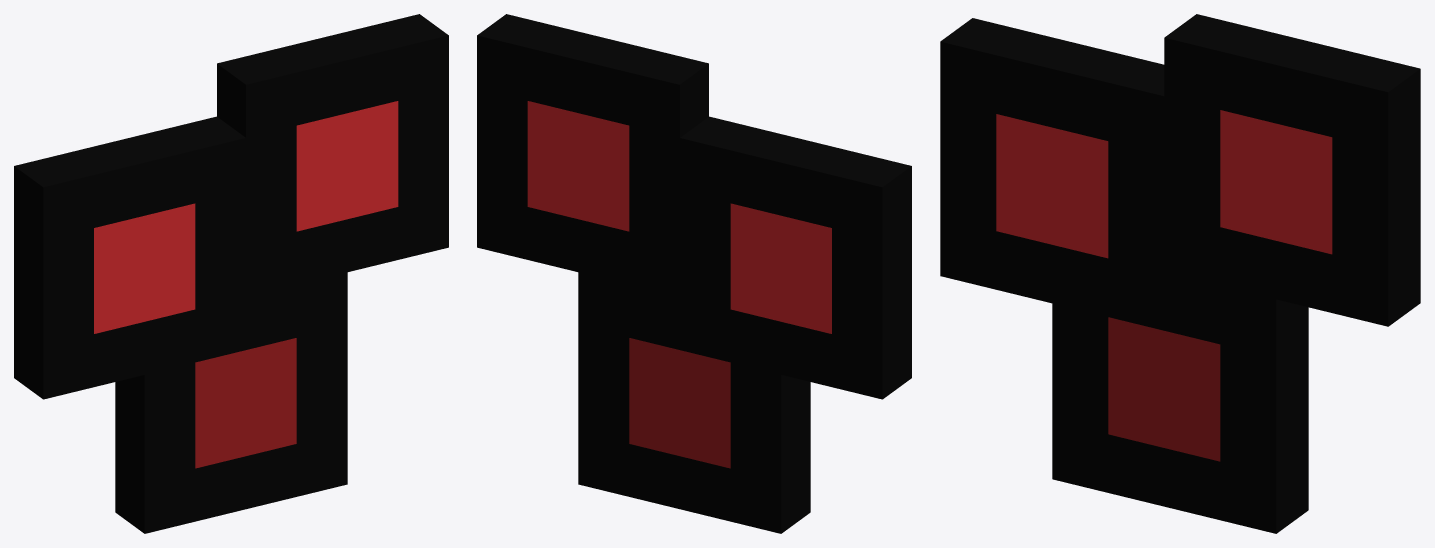
File: Chili Pepper Seeds.glb
3 views of the same model, side by side, from view 1: azimuth 30°, elevation 25°; view 2: azimuth 150°, elevation 25°; view 3: azimuth 330°, elevation 25° (orthographic). The views are drawn at different scales.
Visible parts, largest first — view 1: generated(Clone); view 2: generated(Clone); view 3: generated(Clone).
Part boxes in pixels (left/top/right/bottom): generated(Clone): left=14, top=14, right=448, bottom=533; generated(Clone): left=477, top=14, right=911, bottom=533; generated(Clone): left=940, top=14, right=1420, bottom=533.
Bounding box in the file's own units: 8 × 8 × 1.
Materials: 1 (1 with a texture image).
